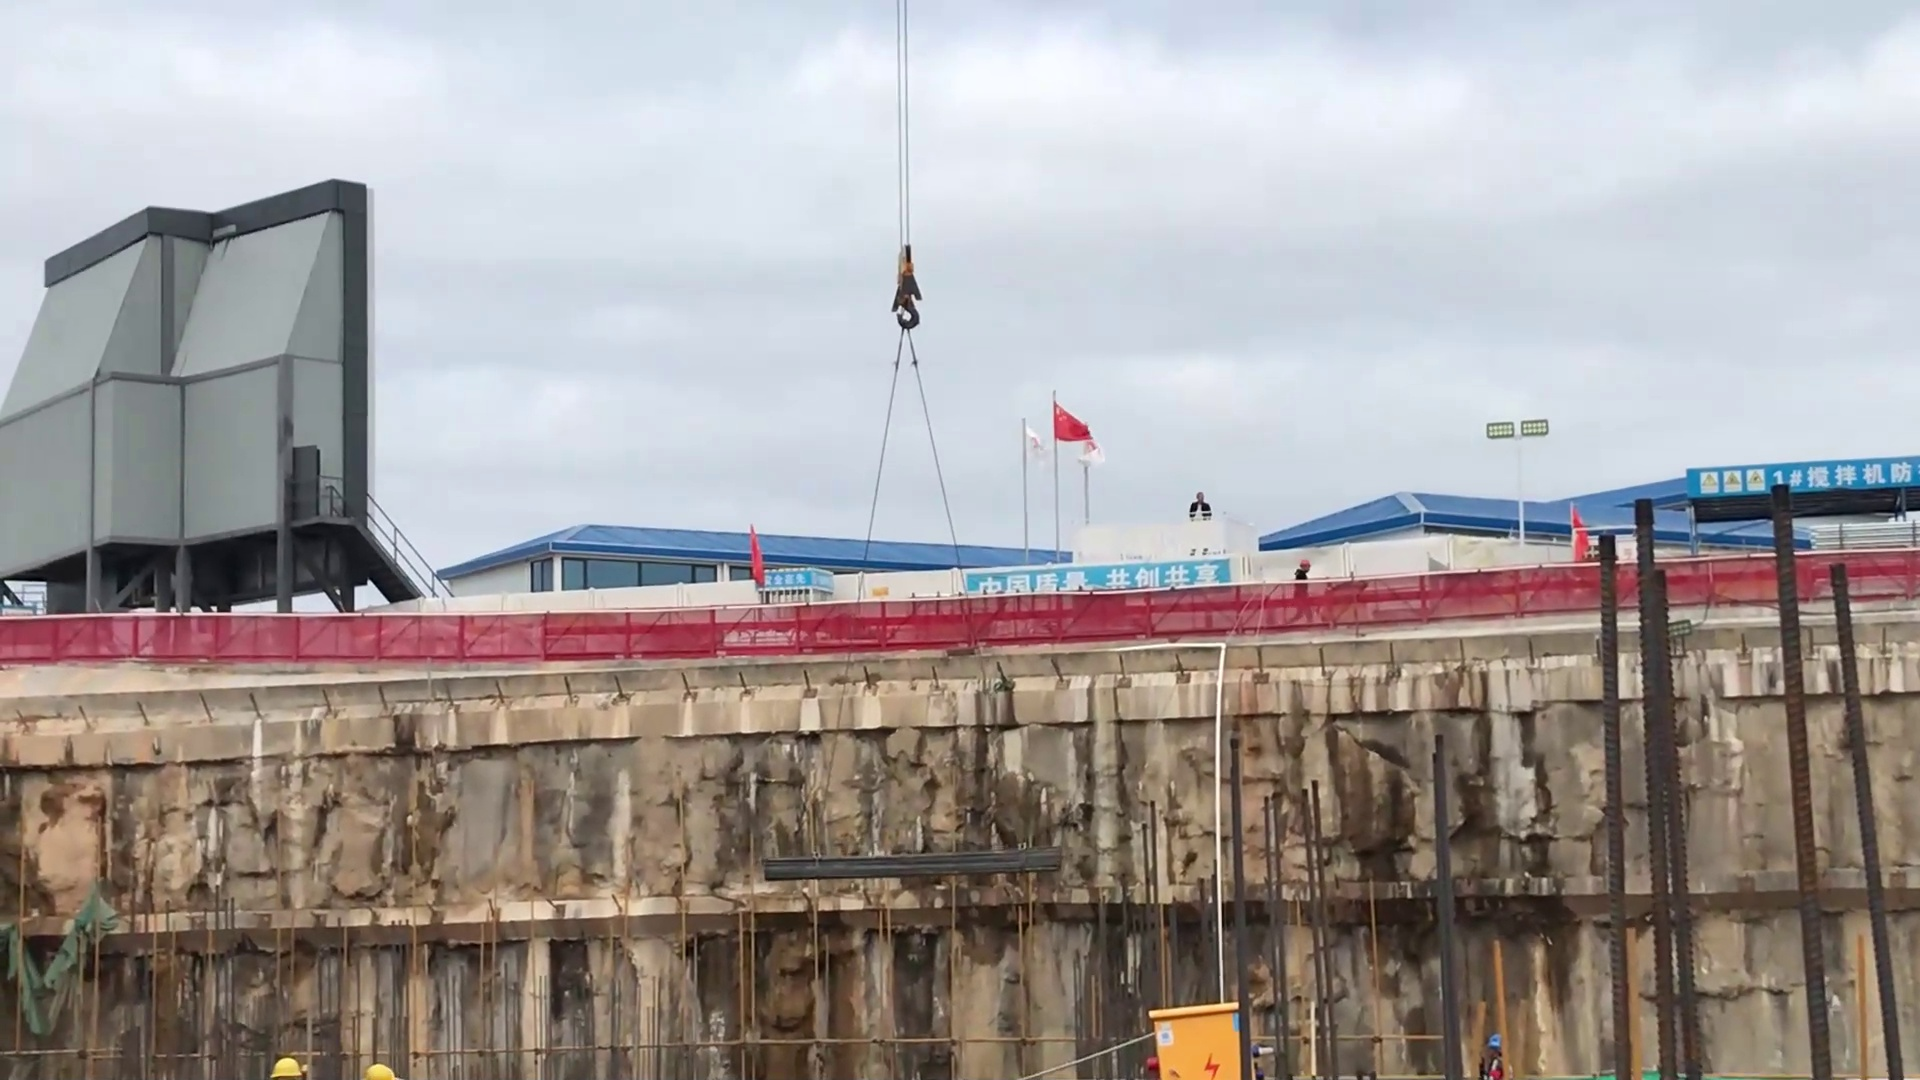ebox: (1141, 993, 1257, 1080)
fence: (1, 538, 1915, 680)
hook: (874, 237, 936, 340)
rebar: (756, 836, 1081, 902)
slogan: (961, 553, 1232, 597)
